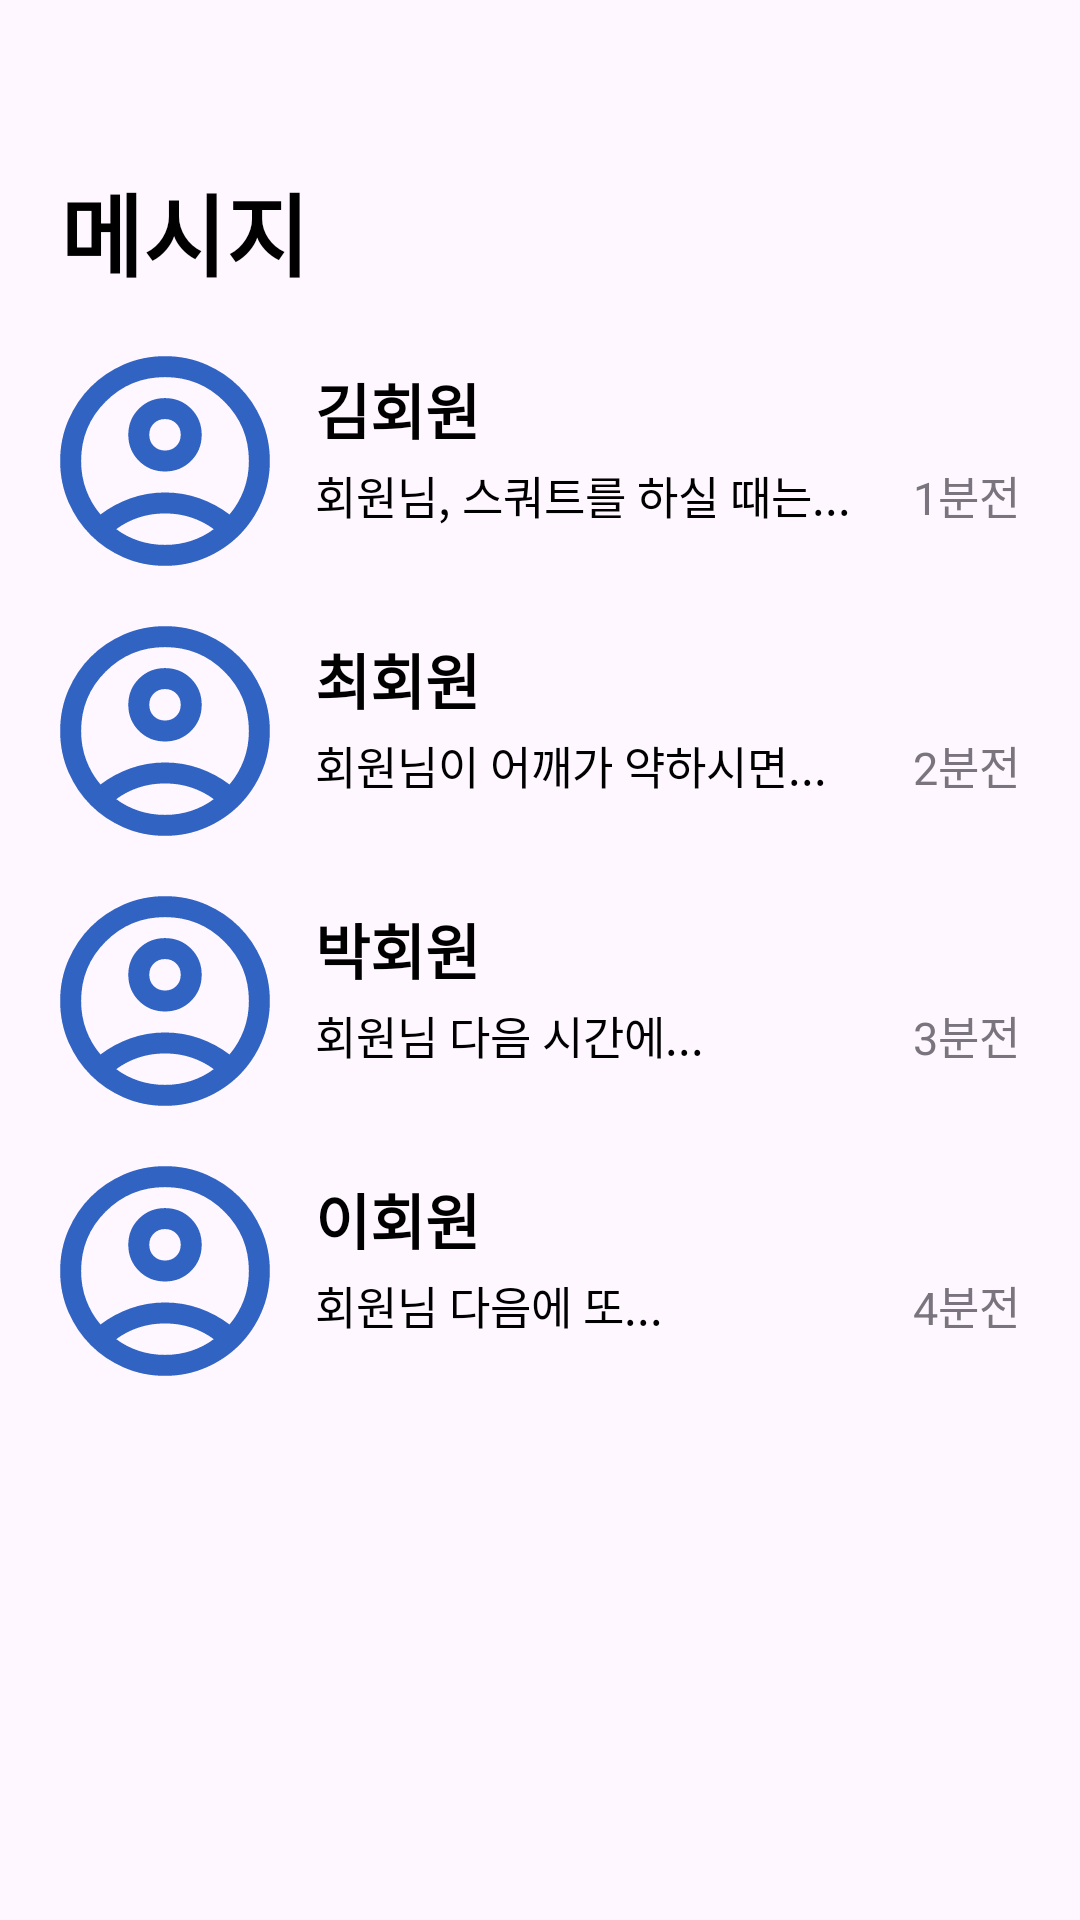

Locate icon controls on the screen. Image size 1080*1920, boxes as bbox=(x1, y1, x2, y2).
profile account circle: bbox=(60, 356, 270, 566), bbox=(60, 626, 270, 836), bbox=(60, 896, 270, 1106), bbox=(60, 1166, 270, 1376)
